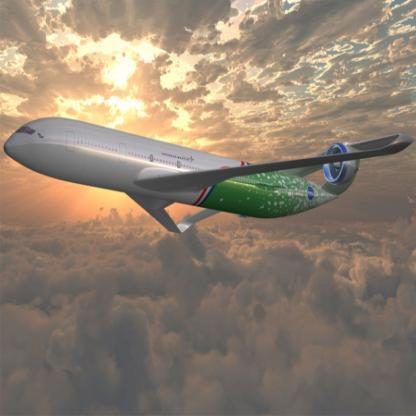CIV_Plane: (2, 113, 413, 235)
